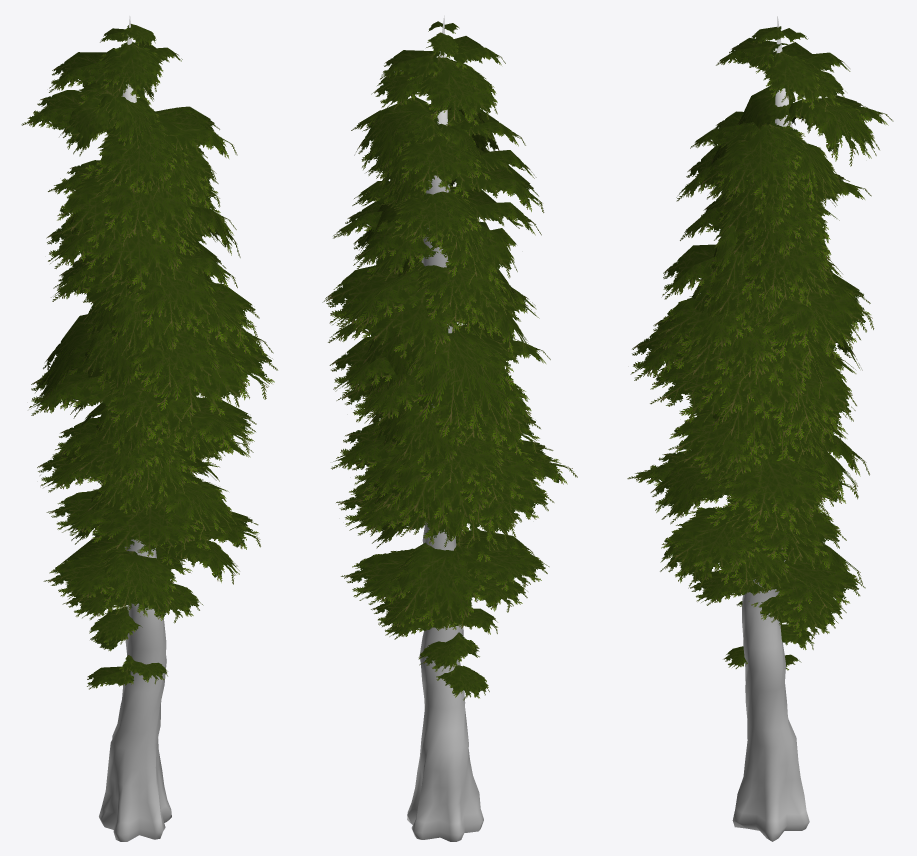
File: TreeSmall002.fbx
3 renders of one model, left to right at view 1: azimuth 30°, elevation 25°; view 2: azimuth 150°, elevation 25°; view 3: azimuth 270°, elevation 25°, orthographic.
Visible parts, largest first — view 1: TreeSmall002_LOD0; view 2: TreeSmall002_LOD0; view 3: TreeSmall002_LOD0.
Boxes of the visible parts, <box> form: TreeSmall002_LOD0: <box>21,16,277,841</box>; TreeSmall002_LOD0: <box>322,15,577,841</box>; TreeSmall002_LOD0: <box>627,16,893,841</box>.
Size of the model in its own units: 465 by 1565 by 504.
